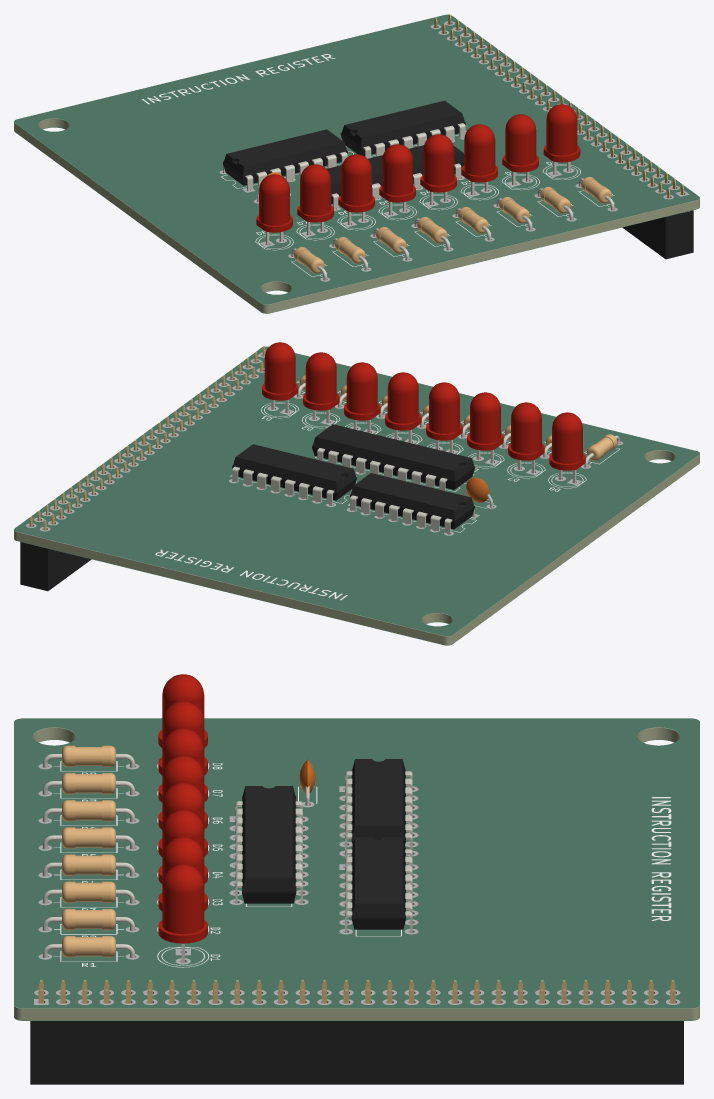
The model's file is board-view.glb.
3 renders of one model, top to bottom at view 1: azimuth 30°, elevation 25°; view 2: azimuth 150°, elevation 25°; view 3: azimuth 270°, elevation 25°, orthographic. The views are drawn at different scales.
Visible parts, largest first — view 1: =>[0:1:1:17], =>[0:1:1:5] (×8), =>[0:1:1:7] (×2), =>[0:1:1:19], =>[0:1:1:3] (×8), =>[0:1:1:11], =>[0:1:1:14], =>[0:1:1:15], =>[0:1:1:9], =>[0:1:1:18]; view 2: =>[0:1:1:17], =>[0:1:1:5] (×8), =>[0:1:1:7] (×2), =>[0:1:1:19], =>[0:1:1:9], =>[0:1:1:11], =>[0:1:1:14], =>[0:1:1:15], =>[0:1:1:18], =>[0:1:1:3], =>[0:1:1:13]; view 3: =>[0:1:1:17], =>[0:1:1:11], =>[0:1:1:5] (×8), =>[0:1:1:7] (×2), =>[0:1:1:3] (×8), =>[0:1:1:19], =>[0:1:1:9], =>[0:1:1:14], =>[0:1:1:15], =>[0:1:1:18].
Part boxes in pixels (x1,y1,x2,y2): =>[0:1:1:17]: [14, 14, 699, 304]; =>[0:1:1:5] (×8): [256, 104, 580, 245]; =>[0:1:1:7] (×2): [223, 100, 465, 190]; =>[0:1:1:19]: [14, 28, 699, 313]; =>[0:1:1:3] (×8): [291, 177, 614, 280]; =>[0:1:1:11]: [434, 14, 693, 259]; =>[0:1:1:14]: [219, 21, 689, 281]; =>[0:1:1:15]: [142, 54, 614, 276]; =>[0:1:1:9]: [327, 145, 464, 209]; =>[0:1:1:18]: [14, 127, 699, 313]; =>[0:1:1:17]: [14, 346, 699, 636]; =>[0:1:1:5] (×8): [262, 342, 585, 483]; =>[0:1:1:7] (×2): [232, 444, 474, 534]; =>[0:1:1:19]: [14, 381, 699, 645]; =>[0:1:1:9]: [312, 424, 474, 490]; =>[0:1:1:11]: [20, 346, 265, 591]; =>[0:1:1:14]: [26, 352, 623, 535]; =>[0:1:1:15]: [155, 381, 619, 600]; =>[0:1:1:18]: [14, 459, 699, 645]; =>[0:1:1:3]: [584, 434, 620, 467]; =>[0:1:1:13]: [463, 477, 492, 507]; =>[0:1:1:17]: [14, 718, 699, 1008]; =>[0:1:1:11]: [30, 980, 683, 1084]; =>[0:1:1:5] (×8): [158, 674, 207, 962]; =>[0:1:1:7] (×2): [345, 759, 412, 932]; =>[0:1:1:3] (×8): [42, 745, 134, 957]; =>[0:1:1:19]: [14, 727, 699, 1020]; =>[0:1:1:9]: [235, 786, 302, 903]; =>[0:1:1:14]: [34, 764, 680, 1004]; =>[0:1:1:15]: [54, 761, 671, 967]; =>[0:1:1:18]: [14, 739, 699, 1020].
Size of the model in its own units: 0.08 by 0.0217 by 0.08.
